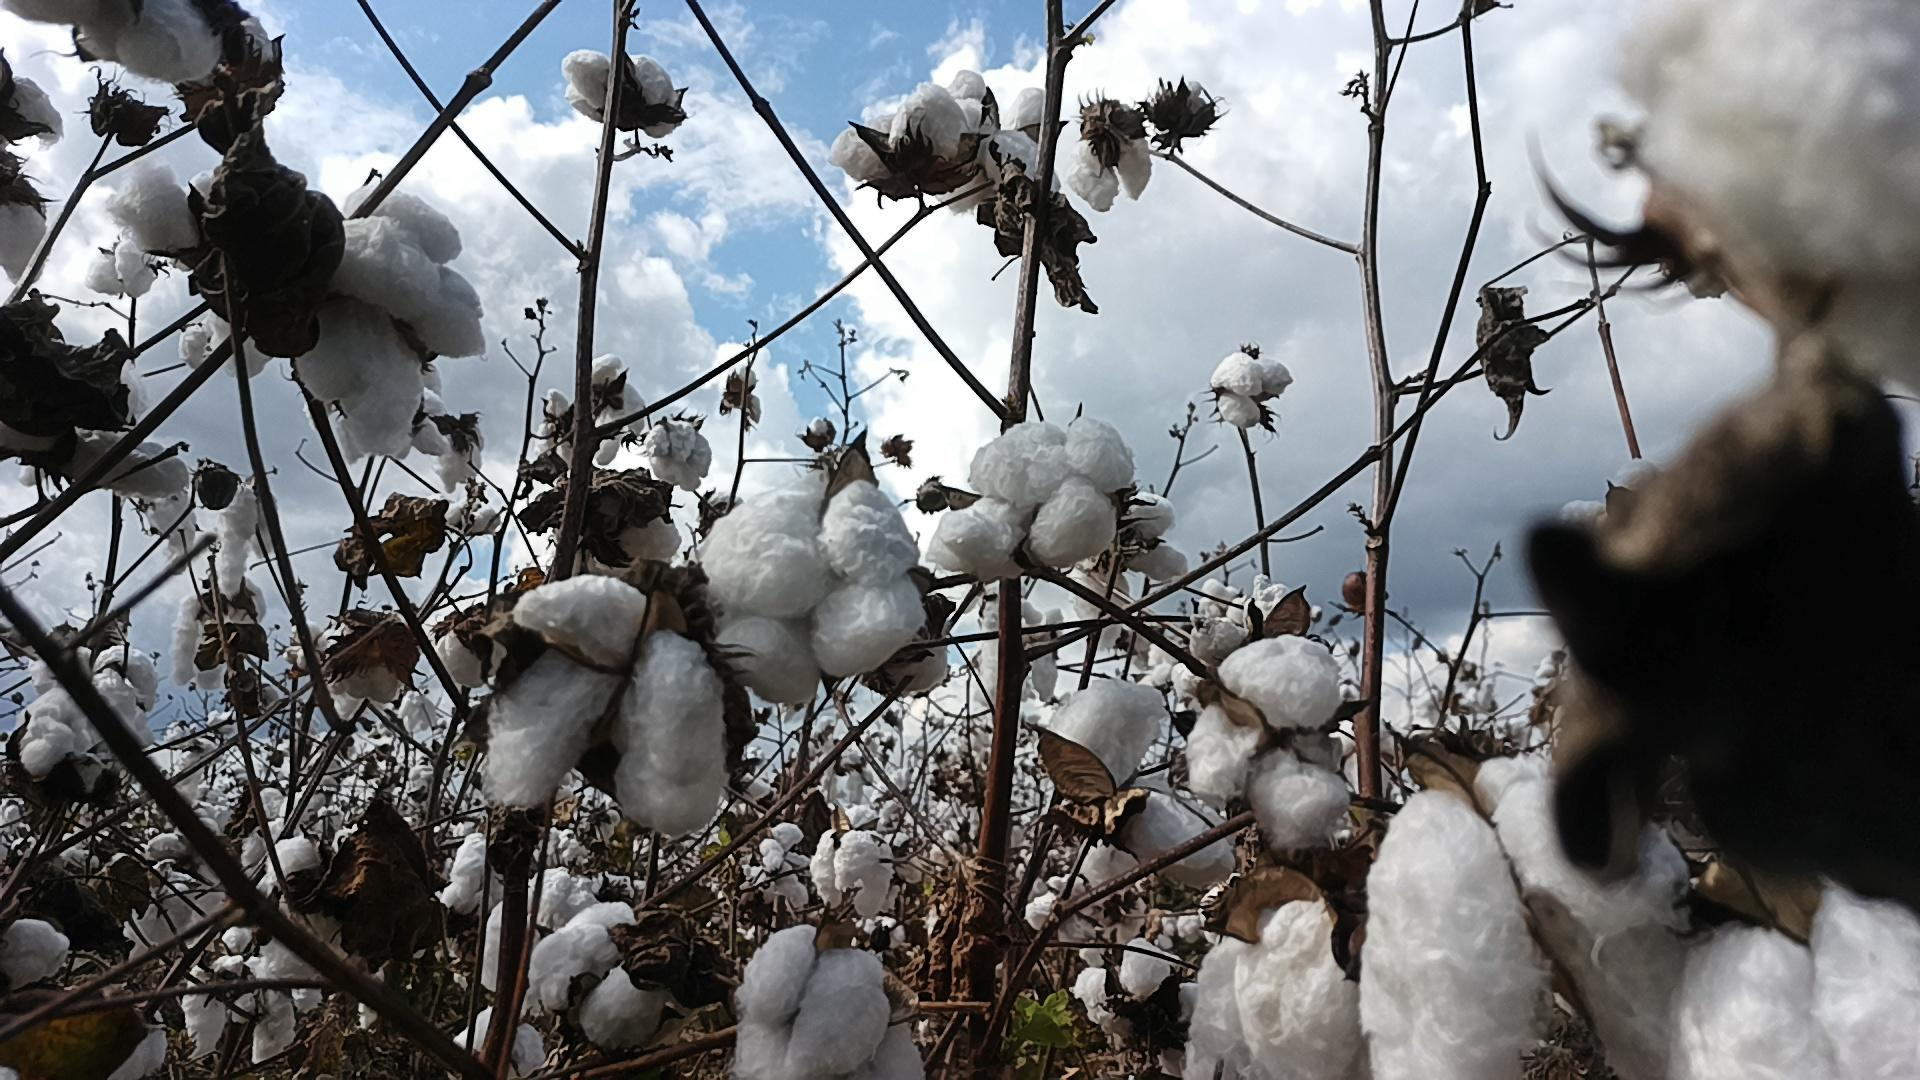cotton_ready: (1362, 753, 1698, 1080), (1605, 0, 1920, 332), (481, 570, 725, 836), (290, 177, 491, 456), (698, 477, 934, 707), (1665, 881, 1920, 1080), (1184, 636, 1353, 841), (1187, 884, 1358, 1080), (727, 919, 927, 1080), (940, 415, 1134, 578), (0, 0, 284, 95), (18, 429, 199, 563), (527, 901, 669, 1056), (824, 65, 990, 194), (1076, 489, 1192, 650), (20, 646, 157, 778), (934, 83, 1062, 215), (0, 75, 69, 293), (481, 872, 599, 997), (104, 158, 235, 262), (185, 952, 303, 1065), (1044, 680, 1167, 783), (1023, 844, 1147, 944), (1125, 787, 1237, 887), (169, 583, 268, 694), (562, 46, 684, 128), (1065, 105, 1155, 214), (1076, 938, 1176, 1026), (319, 618, 413, 707), (811, 831, 897, 918), (588, 352, 651, 465), (448, 1009, 547, 1080), (1211, 352, 1298, 433), (218, 480, 277, 596), (179, 309, 273, 380), (433, 612, 509, 691), (75, 344, 150, 425), (646, 419, 713, 492), (1145, 78, 1218, 137), (84, 240, 160, 298), (534, 384, 579, 465), (434, 429, 487, 493)
